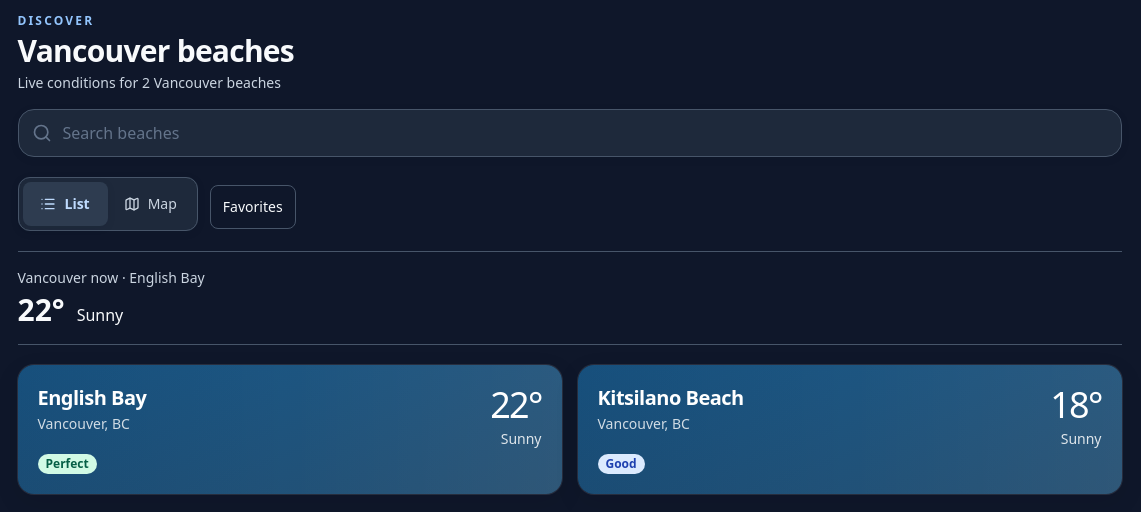
DiscoveryView (task 007) › shows a helpful empty state when search has no matches
Type "Jericho" into the search field labelled "Search beaches". click: {"x": 570, "y": 133}
box: [18, 109, 1122, 157]
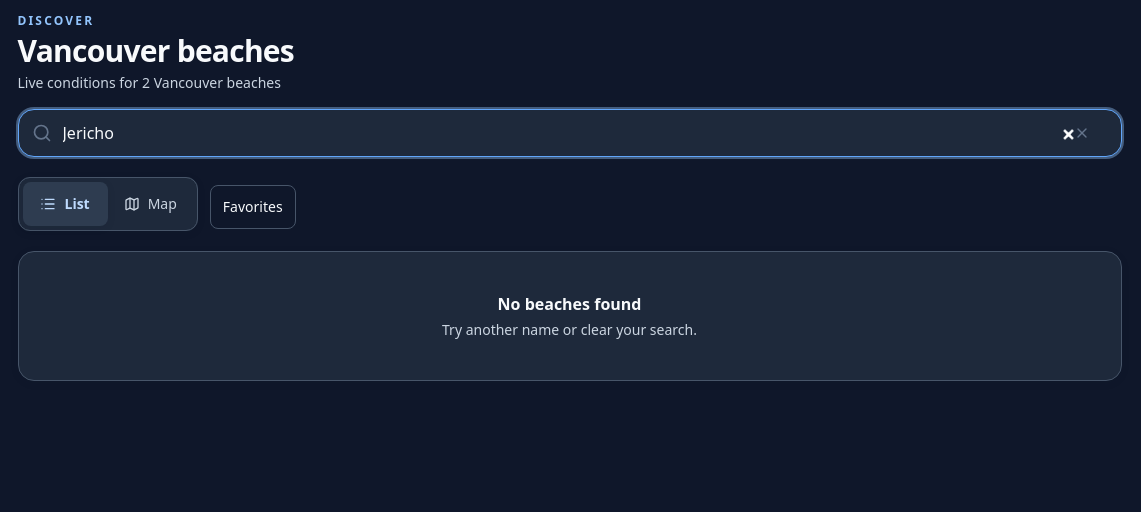
Check: the text "No beaches found" is shown, box [498, 293, 642, 315]
